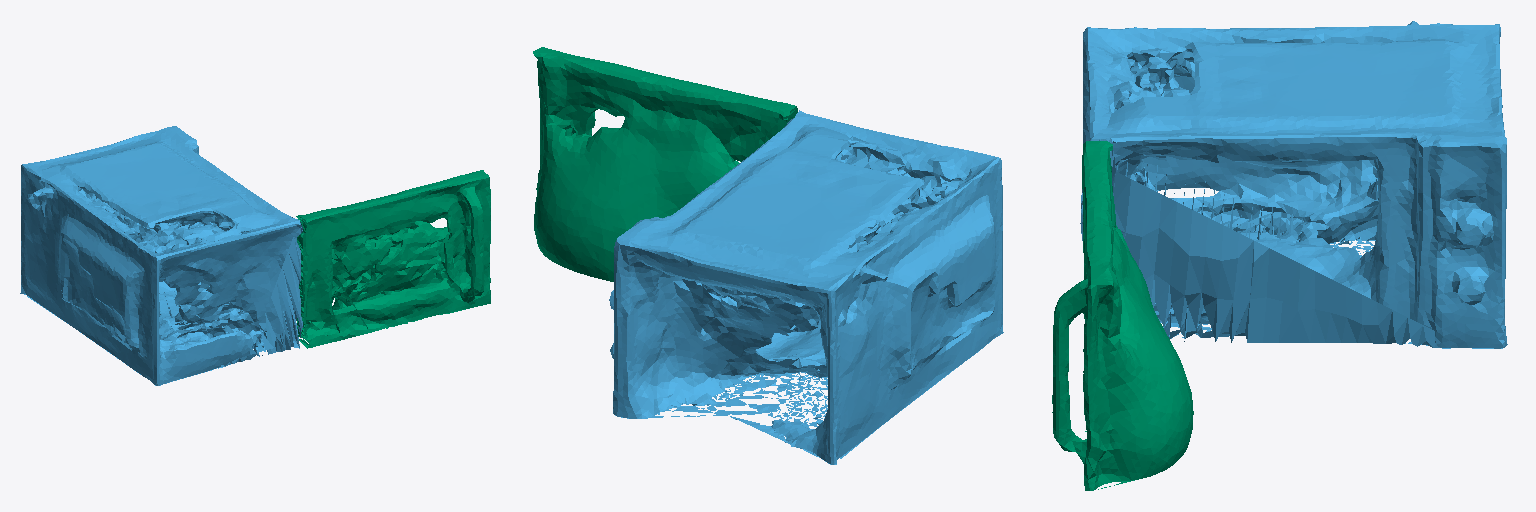
URDF robot description (object):
<?xml version='1.0' encoding='utf-8'?>
<robot name="object">
  <link name="base">
    <inertial>
      <origin xyz="0 0 0" rpy="0 0 0" />
      <mass value="0.0" />
      <inertia ixx="0" ixy="0" ixz="0" iyy="0" iyz="0" izz="0" />
    </inertial>
  </link>
  <link name="link_1">
    <visual>
      <origin xyz="0 0 0" rpy="0 0 0" />
      <geometry>
        <mesh filename="meshes/link_1.stl" />
      </geometry>
    </visual>
    <collision>
      <origin xyz="0 0 0" rpy="0 0 0" />
      <geometry>
        <mesh filename="meshes/link_1.stl" />
      </geometry>
    </collision>
    <inertial>
      <origin xyz="-0.504920726 0.151231355 1.30022528" rpy="0 0 0" />
      <mass value="274.493634" />
      <inertia ixx="60868.3645" ixy="-215.068126" ixz="1961.98202" iyy="60784.0338" iyz="1314.65225" izz="228.796195" />
    </inertial>
  </link>
  <link name="link_2">
    <visual>
      <origin xyz="-0.576412832 0.823526739 -0.128696786" rpy="0 0 0" />
      <geometry>
        <mesh filename="meshes/link_2.stl" />
      </geometry>
    </visual>
    <collision>
      <origin xyz="-0.576412832 0.823526739 -0.128696786" rpy="0 0 0" />
      <geometry>
        <mesh filename="meshes/link_2.stl" />
      </geometry>
    </collision>
    <inertial>
      <origin xyz="0.371757755 0.506333817 0.0983040789" rpy="0 0 0" />
      <mass value="376.09841" />
      <inertia ixx="9.75165764" ixy="0.996373585" ixz="7.54375032" iyy="19.5672453" iyz="-6.18604951" izz="20.4918094" />
    </inertial>
  </link>
  <joint name="joint_1_2" type="revolute">
    <parent link="link_1" />
    <child link="link_2" />
    <origin xyz="0.576412832 -0.823526739 0.128696786" rpy="0 0 0" />
    <axis xyz="-0.00887674338 -0.0142595603 0.999858924" />
    <limit lower="-1.57" upper="1.57" effort="10.0" velocity="1.0" />
  </joint>
  <joint name="base_to_1" type="fixed">
    <parent link="base" />
    <child link="link_1" />
    <origin xyz="0 0 0" rpy="0 0 0" />
  </joint>
</robot>

--- Facts derived from the render (not from the file) ---
The picture shows the robot from 3 angles, left to right: view 1: azimuth 30°, elevation 25°; view 2: azimuth 150°, elevation 25°; view 3: azimuth 270°, elevation 25°; orthographic projection.
Robot: object — 3 links, 2 joints (1 revolute, 1 fixed); root link base; default pose: all joints at 0.
Links seen in each view (by area): view 1: link_1, link_2; view 2: link_1, link_2; view 3: link_1, link_2.
Link boxes in pixels (bbox=[...]): link_1: bbox=[20, 126, 302, 385]; link_2: bbox=[296, 170, 490, 348]; link_1: bbox=[609, 110, 1003, 464]; link_2: bbox=[533, 47, 797, 281]; link_1: bbox=[1080, 21, 1507, 348]; link_2: bbox=[1052, 141, 1193, 490].
Bounding box of the posed robot: 2.67 × 1.85 × 0.9696 m (x, y, z).
2 mesh visuals loaded from 2 distinct referenced files (2 binary STL).
